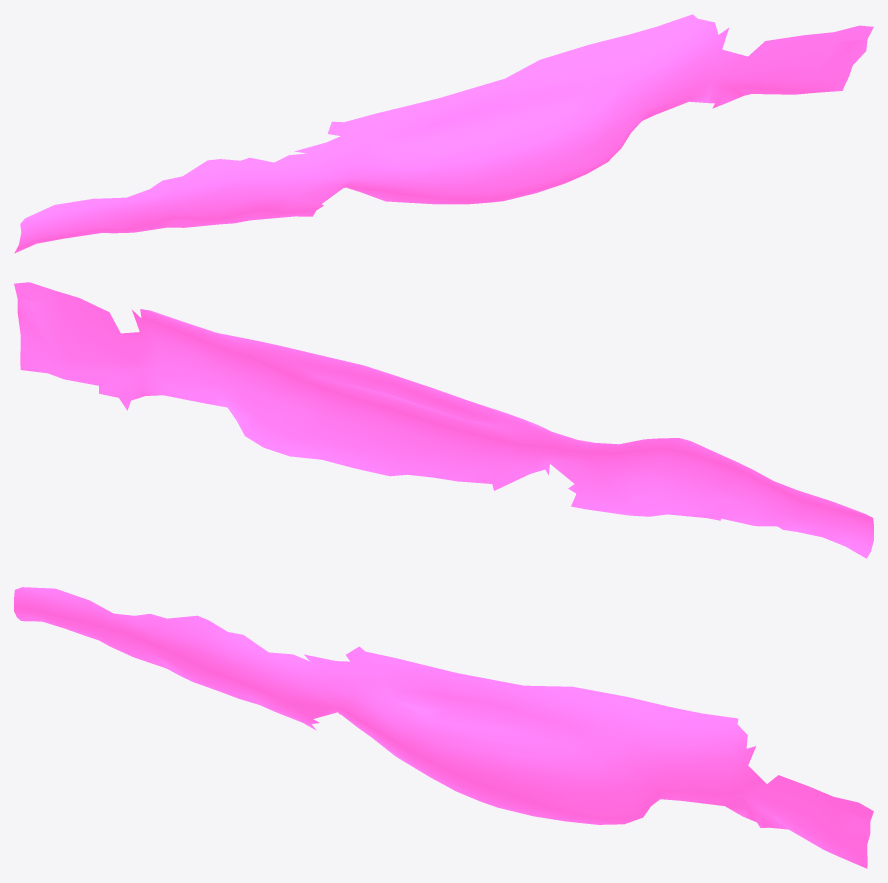
The model's file is nick_body.glb.
3 views of the same model, one above another, from view 1: azimuth 30°, elevation 25°; view 2: azimuth 150°, elevation 25°; view 3: azimuth 330°, elevation 25° (orthographic). The views are drawn at different scales.
Visible parts, largest first — view 1: Nick body; view 2: Nick body; view 3: Nick body.
Part boxes in pixels (x1,y1,x2,y2): Nick body: (14,14,873,253); Nick body: (14,282,873,558); Nick body: (14,587,873,868).
Bounding box in the file's own units: 14.41 × 2 × 0.9147.
